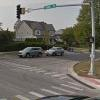Crosswalk: (14, 70, 98, 100)
